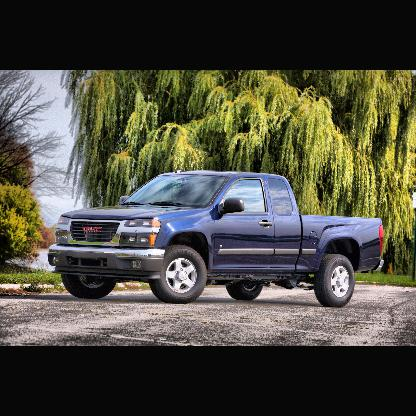GMC Canyon Extended Cab 2012: (48, 169, 387, 308)
